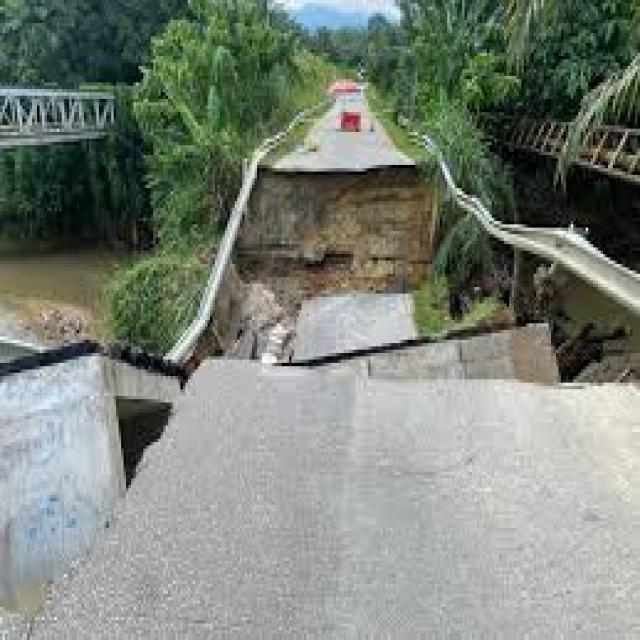bridge collapse: (20, 46, 640, 640)
